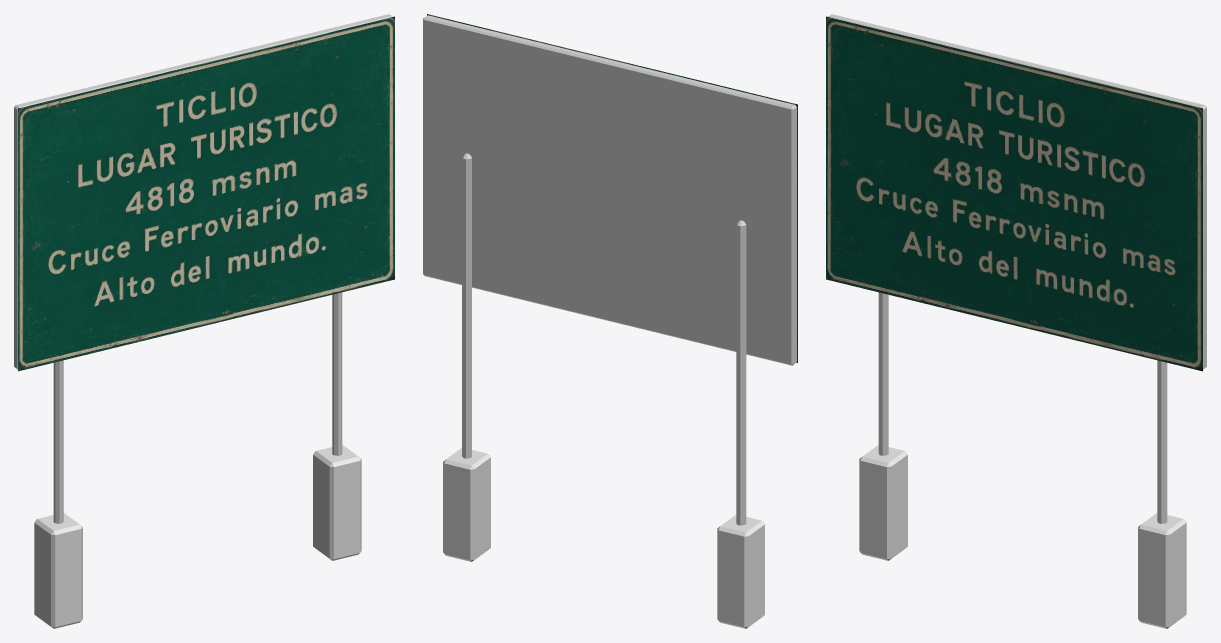
Rendered from cartel_verde_ticlio.glb.
3 renders of one model, left to right at view 1: azimuth 30°, elevation 25°; view 2: azimuth 150°, elevation 25°; view 3: azimuth 330°, elevation 25°, orthographic.
Parts seen in each view (by area): view 1: Cara turística, Pedestal.001, Pedestal, Placa de aluminio, Poste.001, Poste; view 2: Placa de aluminio, Pedestal, Pedestal.001, Poste, Poste.001, Cara turística; view 3: Cara turística, Pedestal, Pedestal.001, Placa de aluminio, Poste, Poste.001.
Part boxes in pixels (x1,y1,x2,y2): Cara turística: (18,16,394,371); Pedestal.001: (313,445,361,560); Pedestal: (34,513,82,628); Placa de aluminio: (14,14,392,369); Poste.001: (332,292,342,455); Poste: (53,360,63,523); Placa de aluminio: (423,15,796,365); Pedestal: (717,515,764,628); Pedestal.001: (443,448,490,561); Poste: (736,220,746,525); Poste.001: (462,153,471,458); Cara turística: (427,14,797,362); Cara turística: (826,16,1202,371); Pedestal: (859,445,907,560); Pedestal.001: (1138,513,1186,628); Placa de aluminio: (828,14,1206,369); Poste: (878,292,888,455); Poste.001: (1157,360,1167,523).
Bounding box in the file's own units: 3.3 × 4.43 × 0.3.
3 materials, 1 textured.
